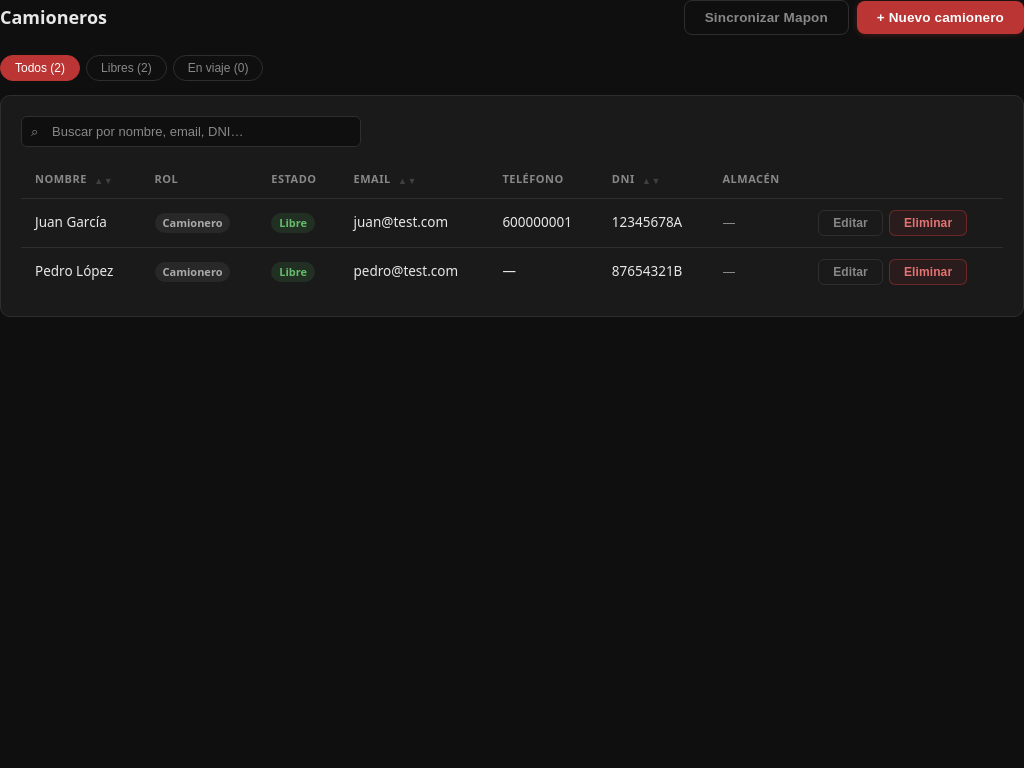
Test: cierra el modal al hacer clic en Cancelar
The width and height of the screenshot is (1024, 768).
Expected: the text "Juan García" is shown, [21,198,140,247]
Click the button "+ Nuevo camionero": (940, 18) [857,1,1023,34]
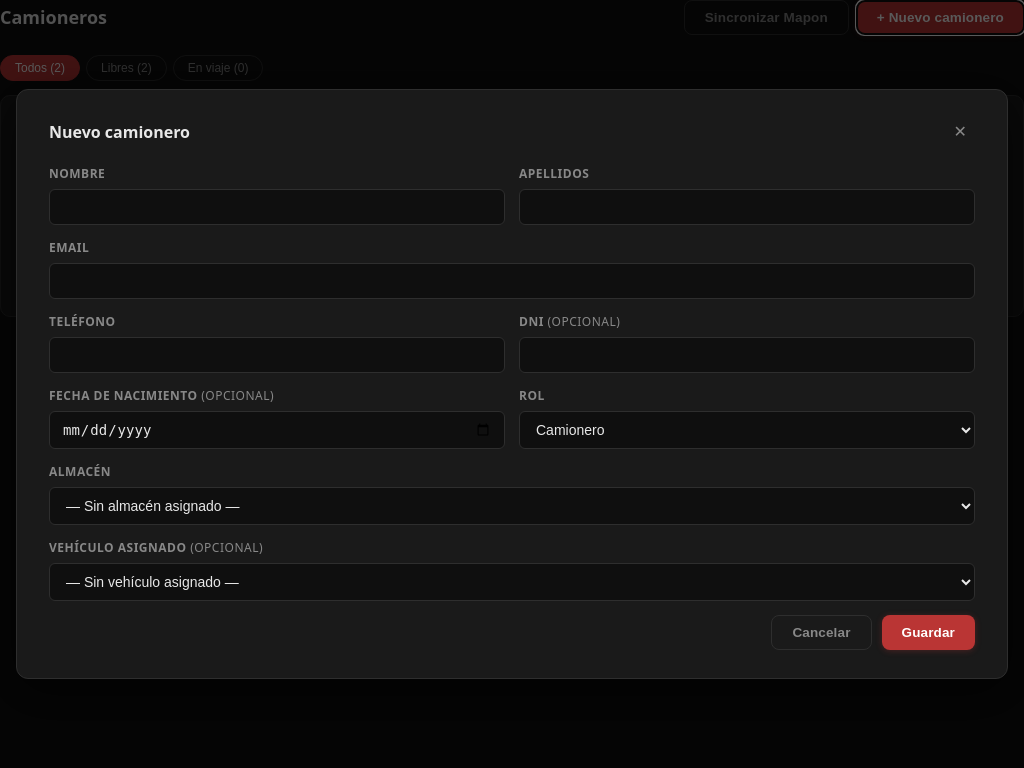
Click the button "Cancelar": (821, 632) [771,615,872,650]
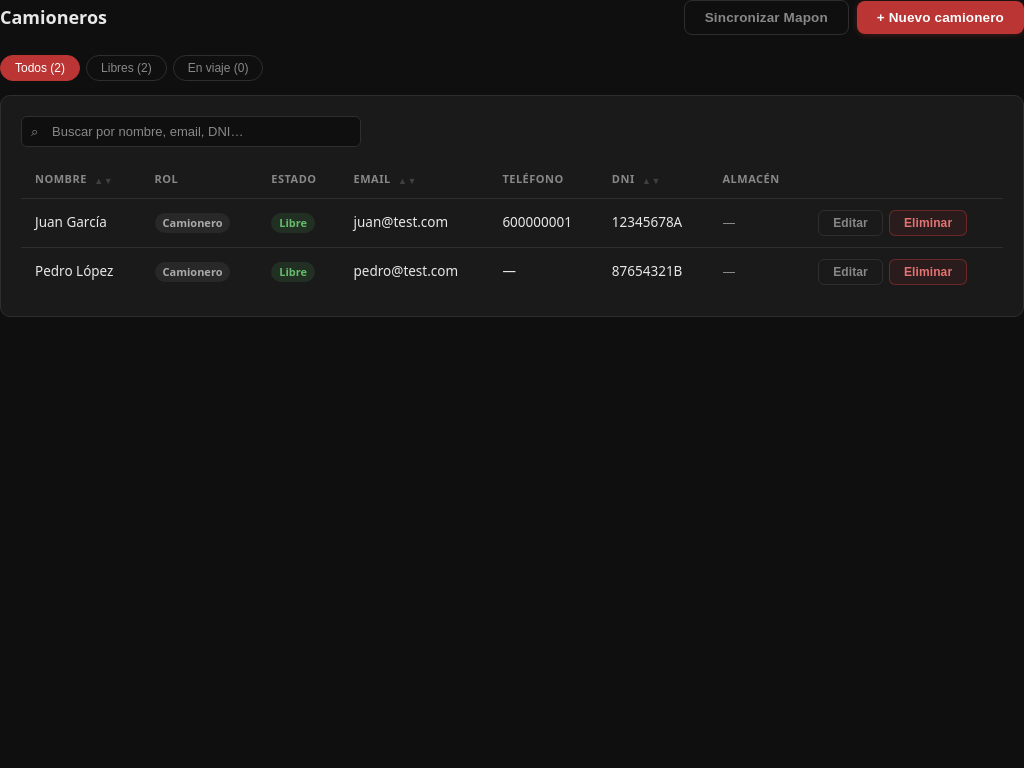
Result: the button "Guardar" is gone
